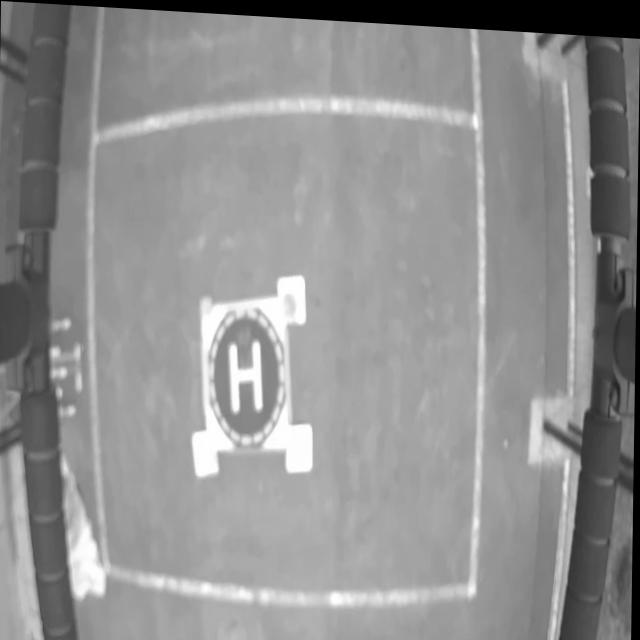Helipad: (228, 334, 264, 411)
